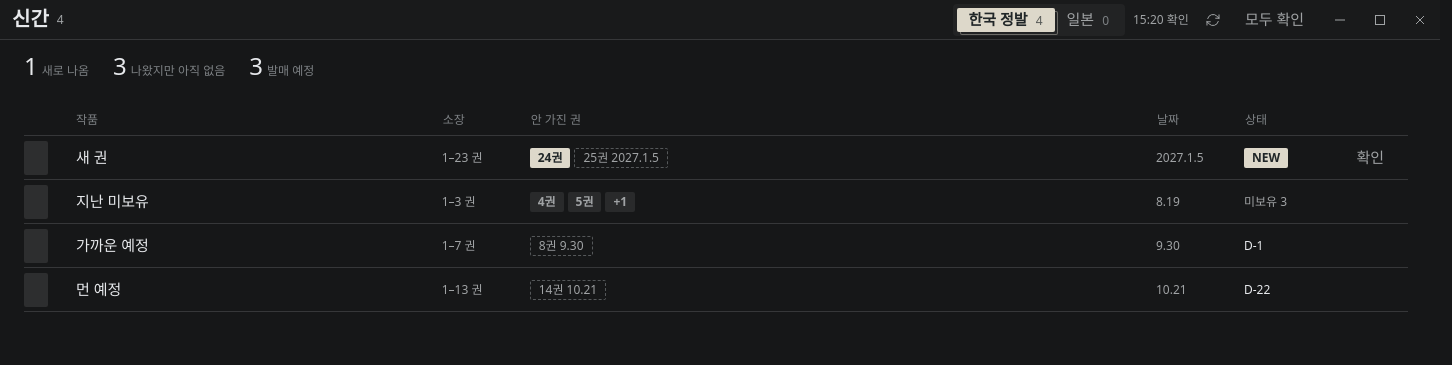
Test: stops with a message when the server declines although the gate is still cached (409/503)
Click the button named "새로고침" at (1213, 20), box 1197,6 -> 1229,34
Wait 10000 ms
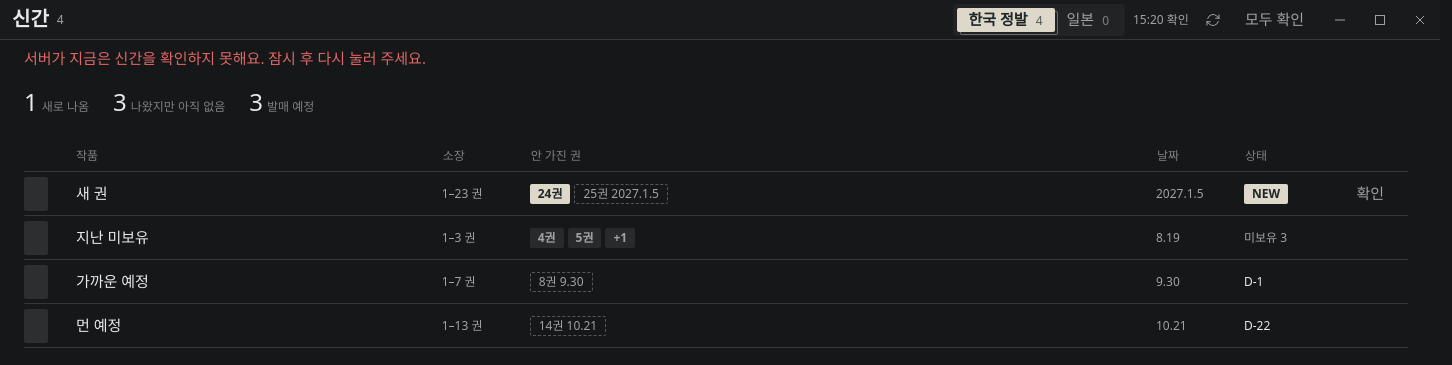
Now the message shows "서버가 지금은 신간을 확인하지 못해요", box 24,48 -> 426,68
